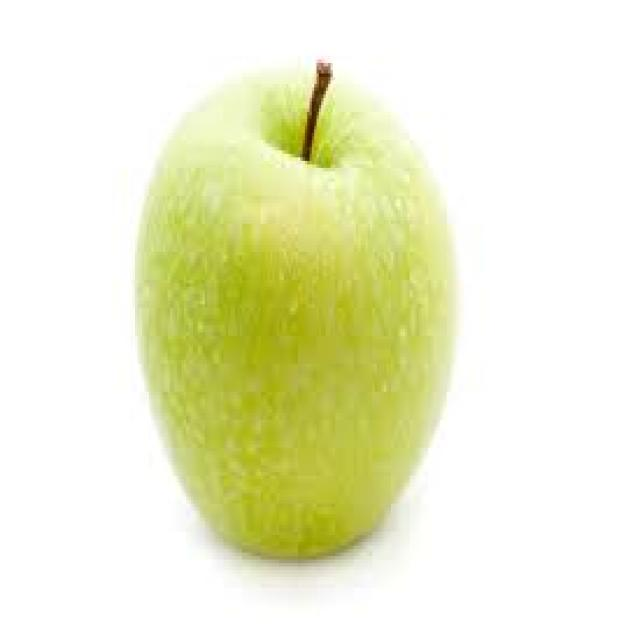organic waste: (130, 77, 444, 553)
